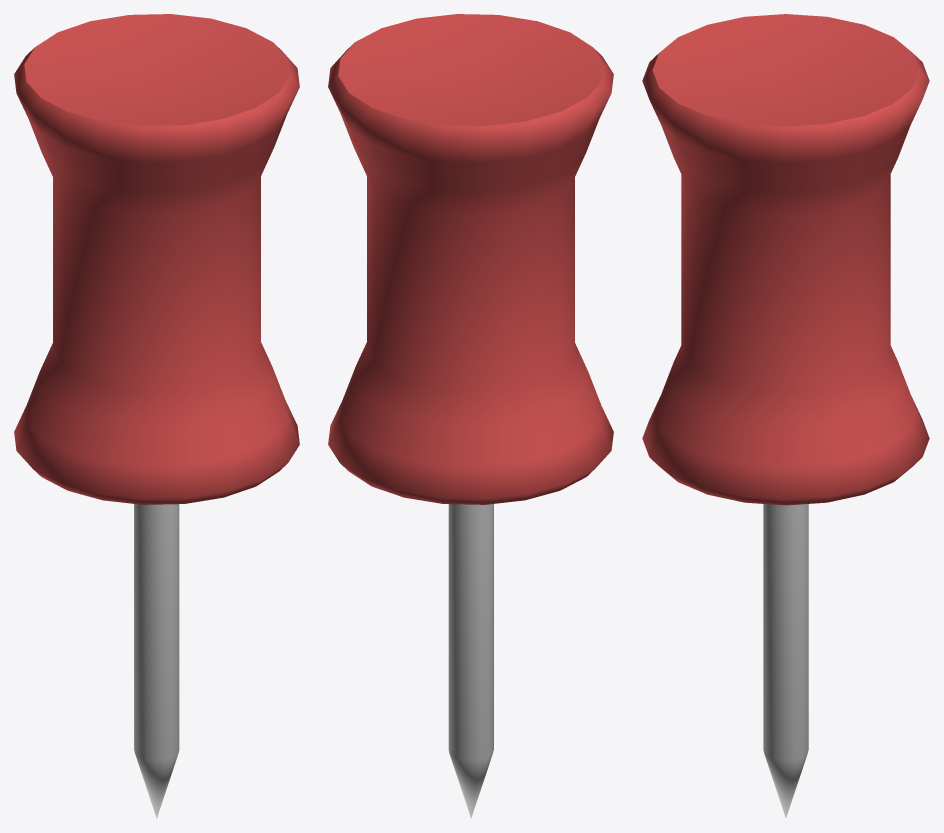
File: EarthIndicator.fbx
The picture shows the model from 3 angles, left to right: view 1: azimuth 30°, elevation 25°; view 2: azimuth 150°, elevation 25°; view 3: azimuth 270°, elevation 25°; orthographic projection.
Parts seen in each view (by area): view 1: polySurface1; view 2: polySurface1; view 3: polySurface1.
Boxes of the visible parts, x1,y1,x2,y2 form: polySurface1: (14, 14, 299, 818); polySurface1: (328, 14, 613, 818); polySurface1: (642, 14, 929, 817).
Bounding box in the file's own units: 2.52 × 7.24 × 2.52.
